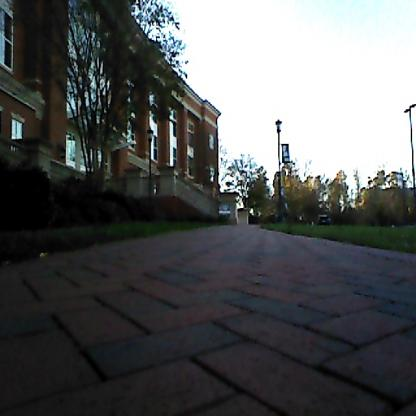Sidewalk: (0, 225, 416, 416)
